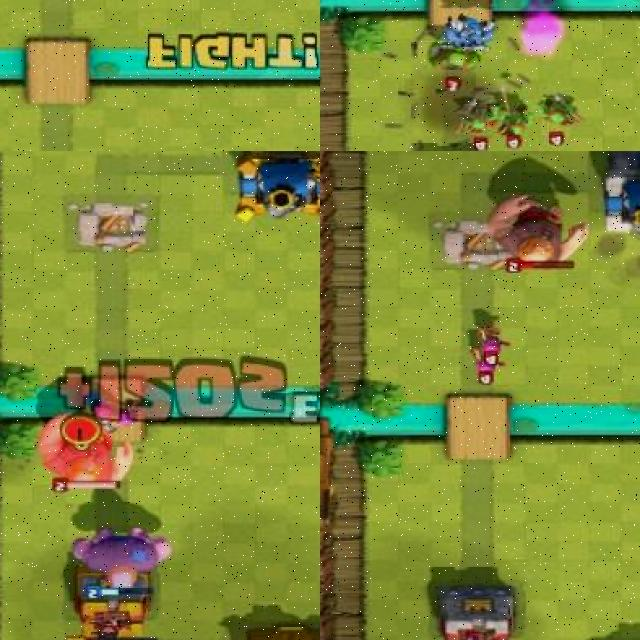Enemy-Archer: (465, 340, 506, 388), (471, 320, 510, 365)
Enemy-Brawler: (428, 26, 485, 94)
Enemy-Giant: (481, 188, 596, 278), (36, 406, 136, 494)
Enemy-SpearGoblin: (533, 89, 588, 148), (452, 96, 506, 149), (486, 99, 539, 150)
Player-Archer: (81, 396, 117, 430), (107, 403, 143, 429)
Player-Giant: (67, 524, 173, 600)
Player-Minion: (446, 11, 483, 60), (464, 14, 506, 54), (432, 17, 471, 53)
